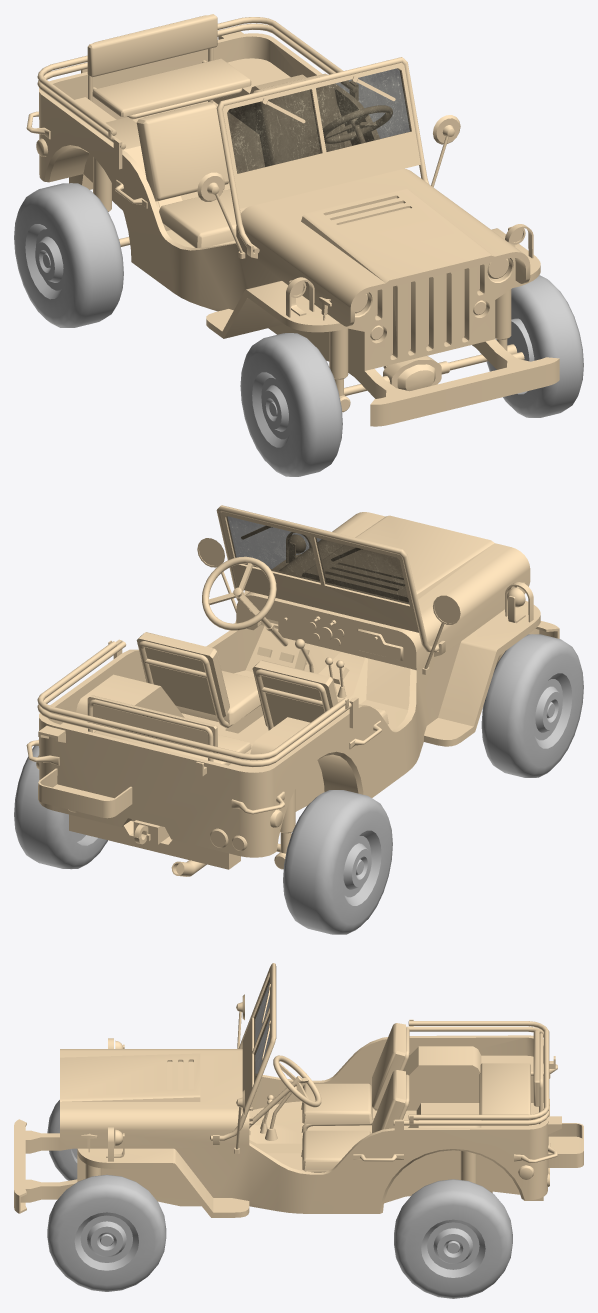
Rendered from Military_car.fbx.
3 renders of one model, top to bottom at view 1: azimuth 30°, elevation 25°; view 2: azimuth 150°, elevation 25°; view 3: azimuth 270°, elevation 25°, orthographic. The views are drawn at different scales.
Visible parts, largest first — view 1: body, tireBackRight, tireFrontRight, glass, tireFrontLeft, steeringwheel; view 2: body, tireBackRight, tireFrontRight, glass, tireBackLeft, steeringwheel; view 3: body, tireBackLeft, tireFrontLeft, steeringwheel, tireFrontRight, glass.
Boxes of the visible parts, x1,y1,x2,y2 form: body: [26, 14, 559, 426]; tireBackRight: [14, 183, 123, 327]; tireFrontRight: [240, 333, 342, 476]; glass: [227, 68, 410, 173]; tireFrontLeft: [486, 275, 583, 417]; steeringwheel: [323, 105, 392, 143]; body: [26, 505, 559, 876]; tireBackRight: [283, 790, 392, 934]; tireFrontRight: [481, 634, 583, 777]; glass: [226, 516, 409, 604]; tireBackLeft: [14, 745, 107, 869]; steeringwheel: [202, 556, 288, 646]; body: [14, 963, 583, 1217]; tireBackLeft: [394, 1179, 512, 1298]; tireFrontLeft: [47, 1174, 166, 1291]; steeringwheel: [249, 1055, 321, 1127]; tireFrontRight: [47, 1100, 77, 1180]; glass: [254, 977, 269, 1082].
Size of the model in its own units: 212 by 184 by 398.
